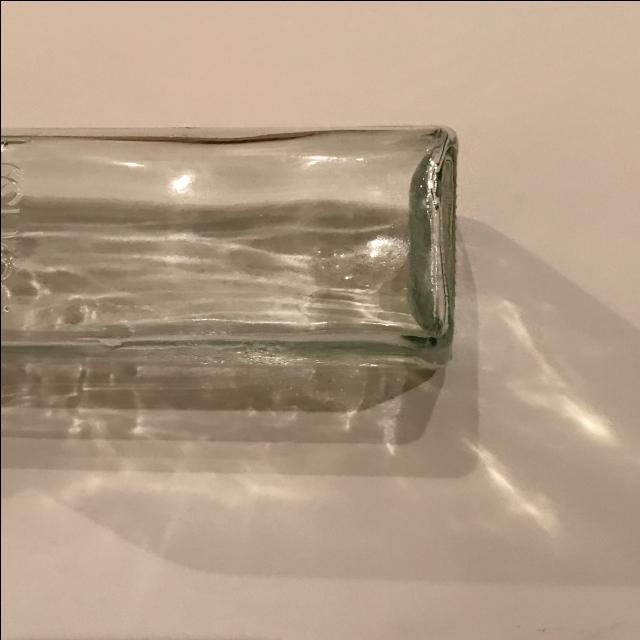glass: (0, 120, 465, 409)
